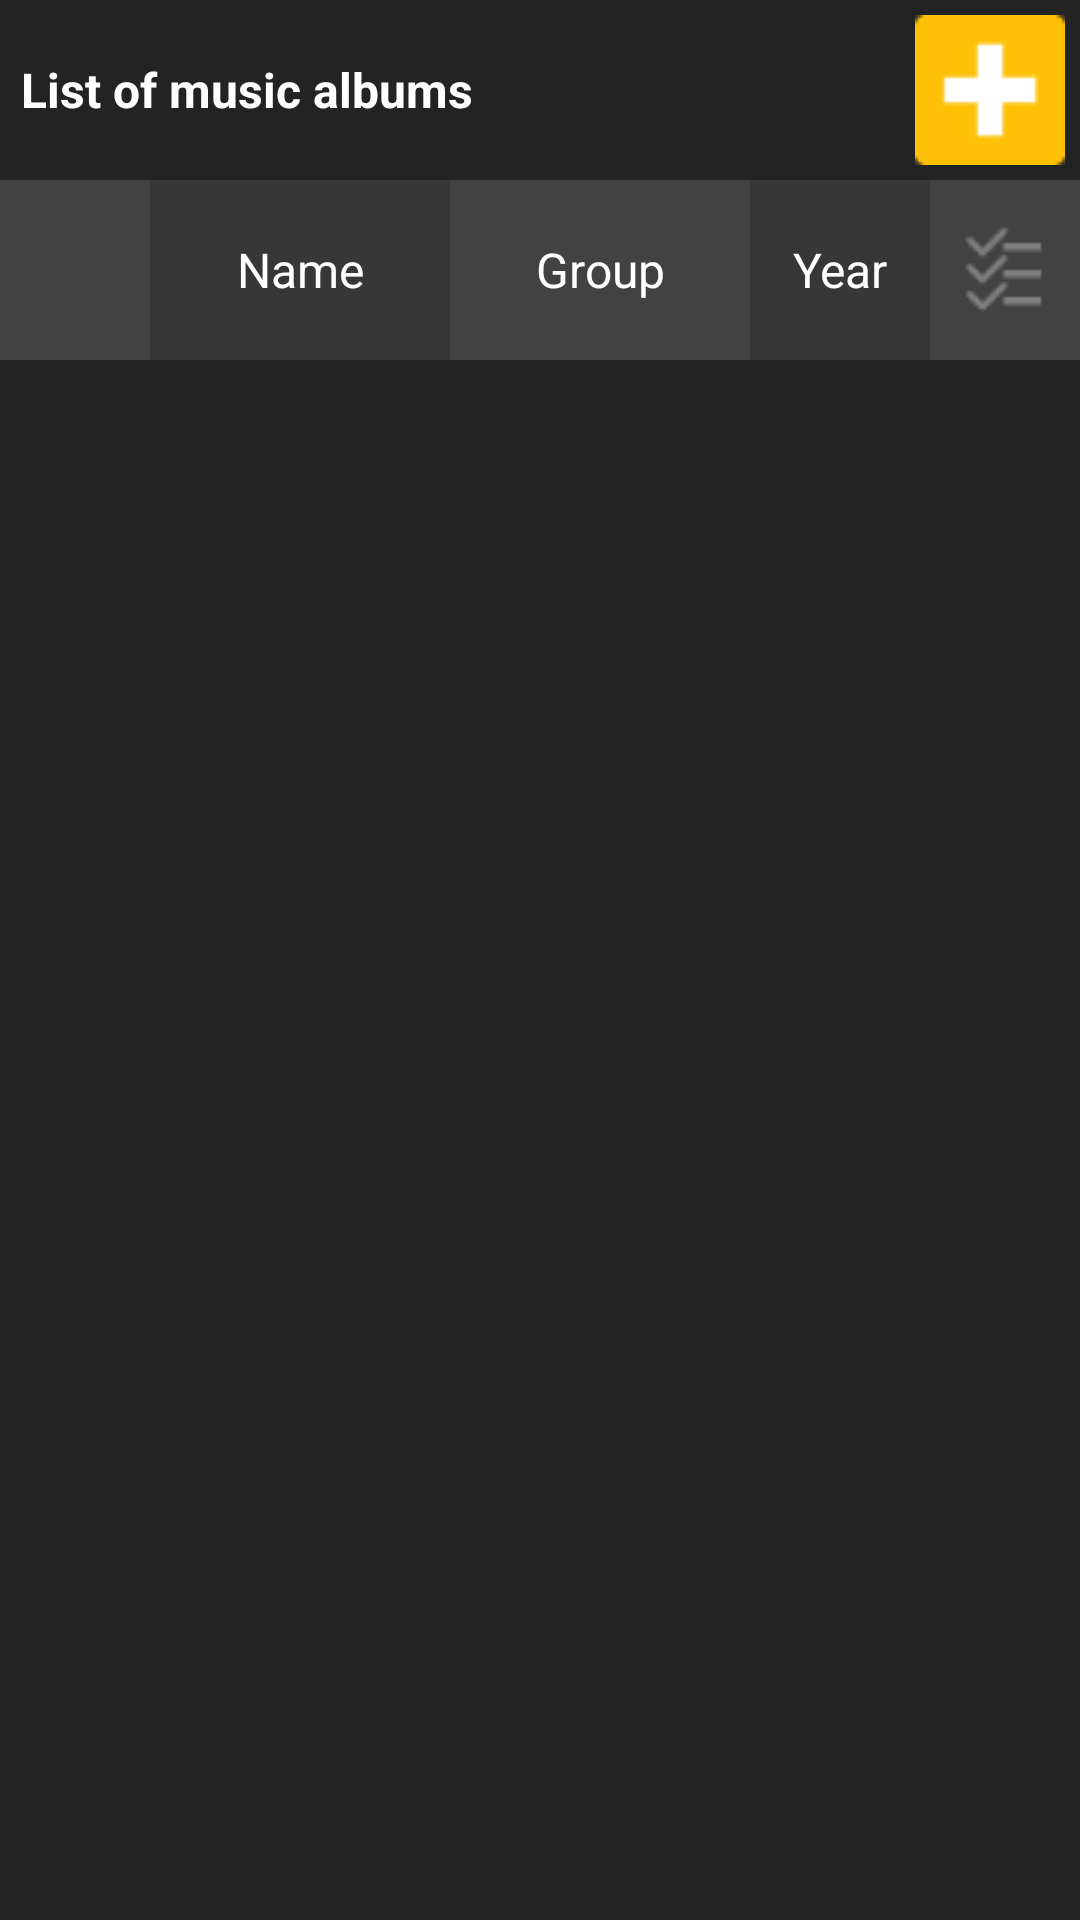

Where to tap for icons on this 1080 x 1920 app screen, as (x=x, y=y):
add: (x=990, y=90)
all select off: (x=1005, y=270)
